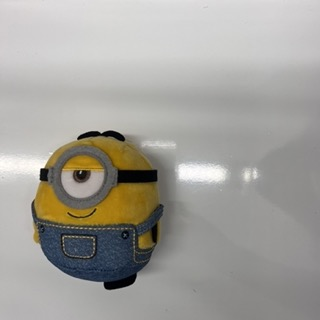minion: (32, 131, 163, 290)
